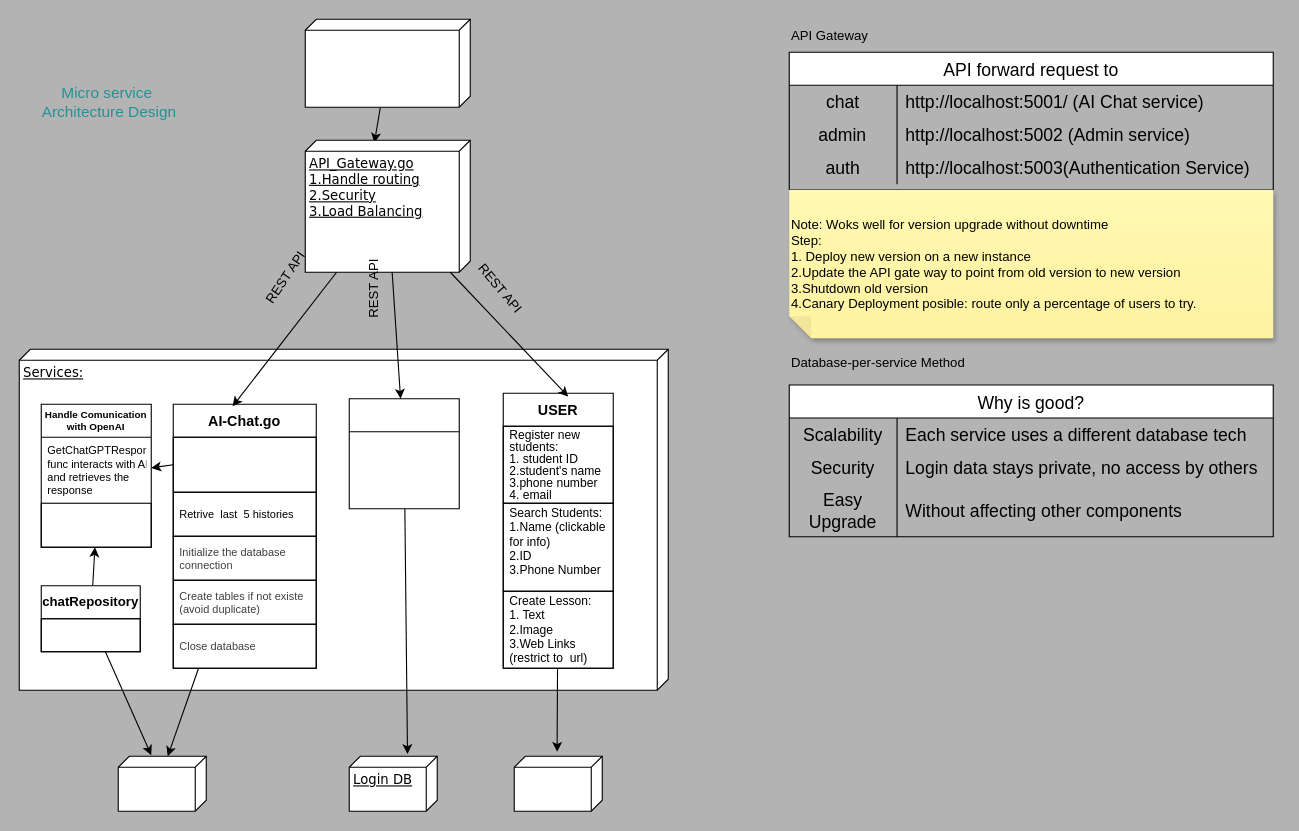
Image size: 1299x831. Some labels were removed from this diagram. The shapes that lost their labels are listed below. From the top down, each one's centre as x and y in pixels, then its label:
(387,62): Client side:Front-End React, Redux,
(244,464): Process user input and return response
(403,453): Login
(95,524): Return the content / return error message
(90,635): SaveChatRecord into ChatHistory table
(161,783): AI-Chat DB
(557,783): Admin DB
